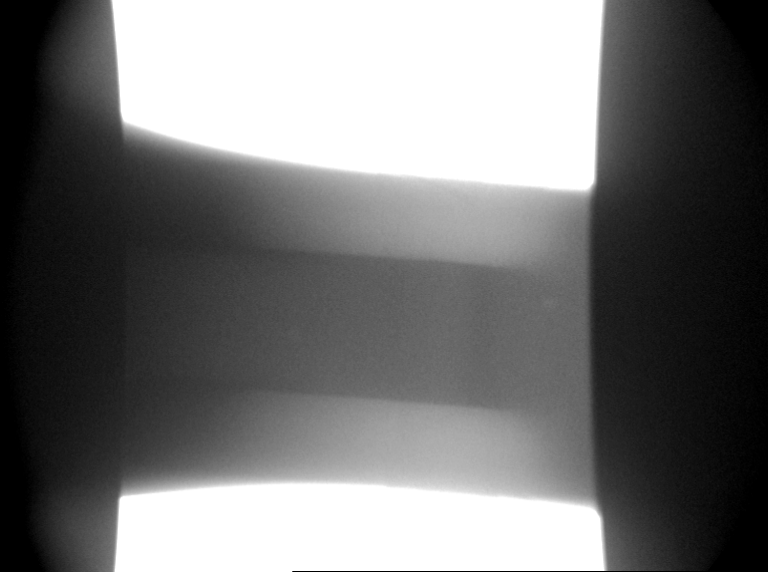defect: (288, 323, 311, 347)
